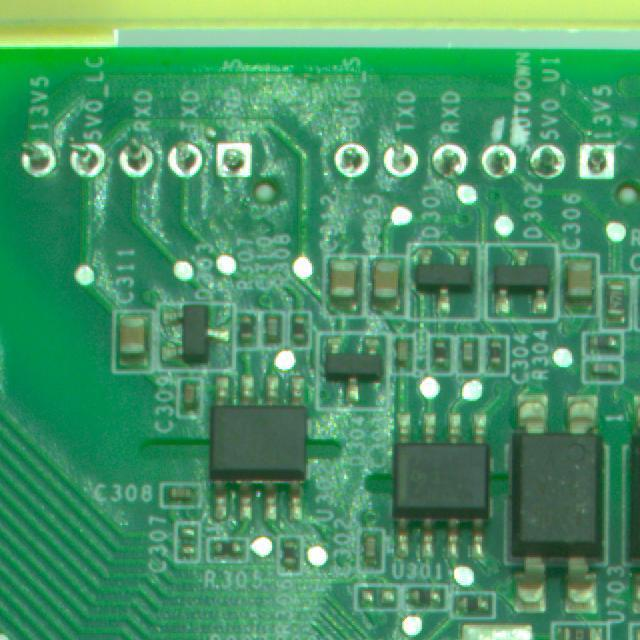Insufficient solder: (214, 135, 265, 186), (529, 137, 569, 195), (14, 131, 57, 184), (379, 135, 422, 184), (167, 135, 205, 188), (118, 132, 153, 188), (71, 143, 113, 188), (427, 141, 467, 187), (478, 144, 526, 182), (332, 141, 371, 185), (584, 141, 619, 189)
